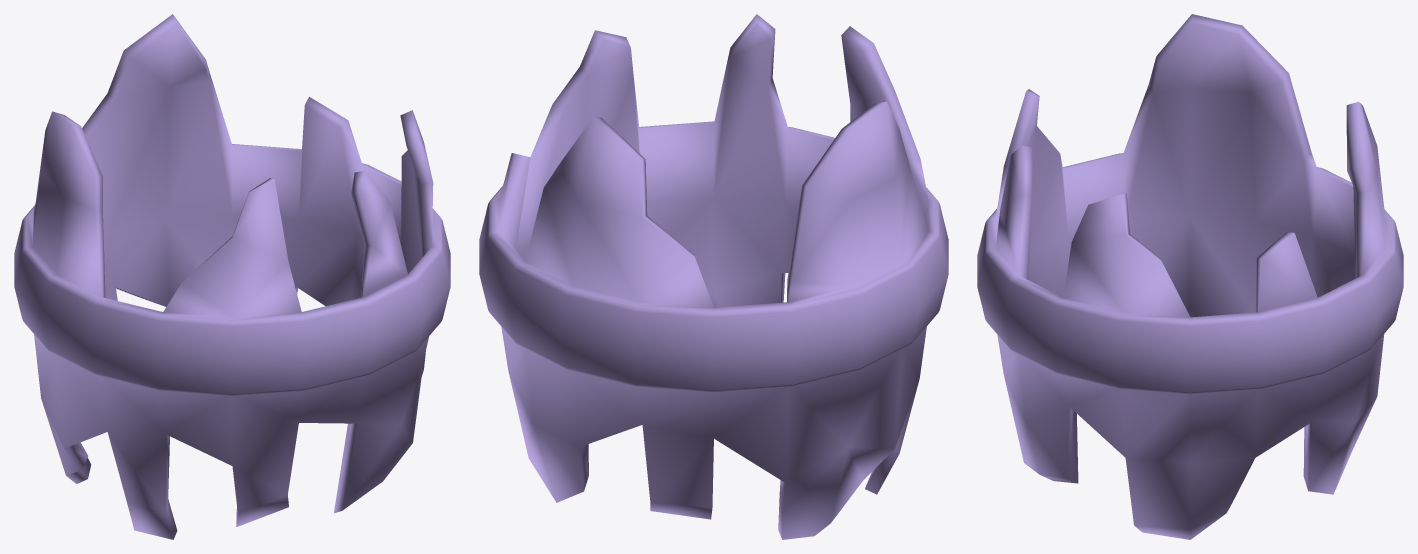
Rendered from DWBarrel3_TX.fbx.
The picture shows the model from 3 angles, left to right: view 1: azimuth 30°, elevation 25°; view 2: azimuth 150°, elevation 25°; view 3: azimuth 270°, elevation 25°; orthographic projection. The views are drawn at different scales.
Parts seen in each view (by area): view 1: DWBarrel3; view 2: DWBarrel3; view 3: DWBarrel3.
Part boxes in pixels (bbox=[...]): DWBarrel3: bbox=[14, 14, 450, 539]; DWBarrel3: bbox=[479, 14, 948, 539]; DWBarrel3: bbox=[977, 14, 1403, 539].
Bounding box in the file's own units: 14.17 × 14 × 13.96.
